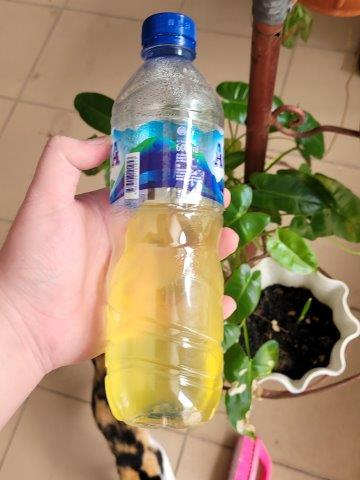botolplastik: (103, 12, 226, 425)
